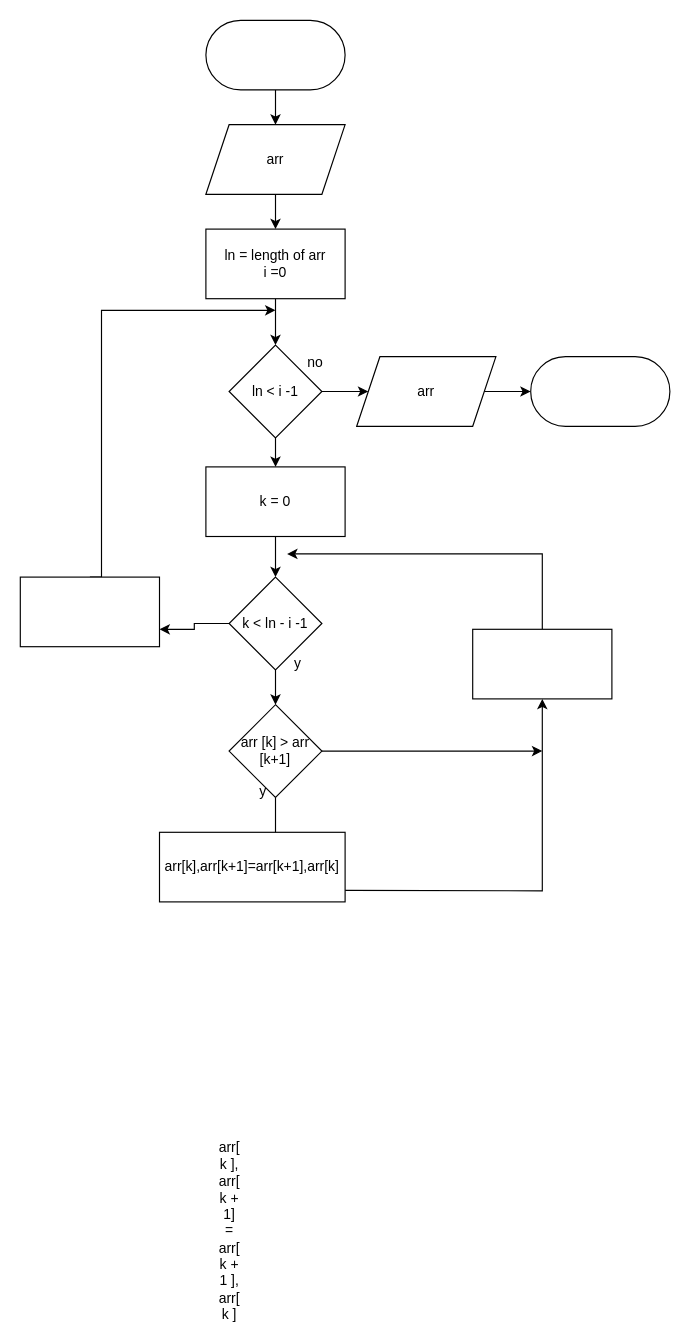
The diagram is 690 pixels wide and 1343 high, and some of its shapes have lost their labels. The centre of each missing label's shape, as x and y in pixels:
"bubble sort" goes at (x=275, y=54).
"end" goes at (x=600, y=391).
"i = i +1" goes at (x=89, y=611).
"k= k+1" goes at (x=542, y=663).
